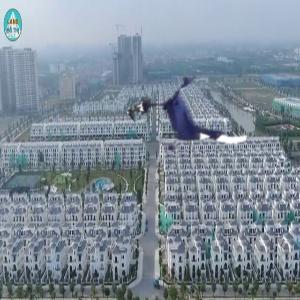drone: (146, 68, 249, 171)
